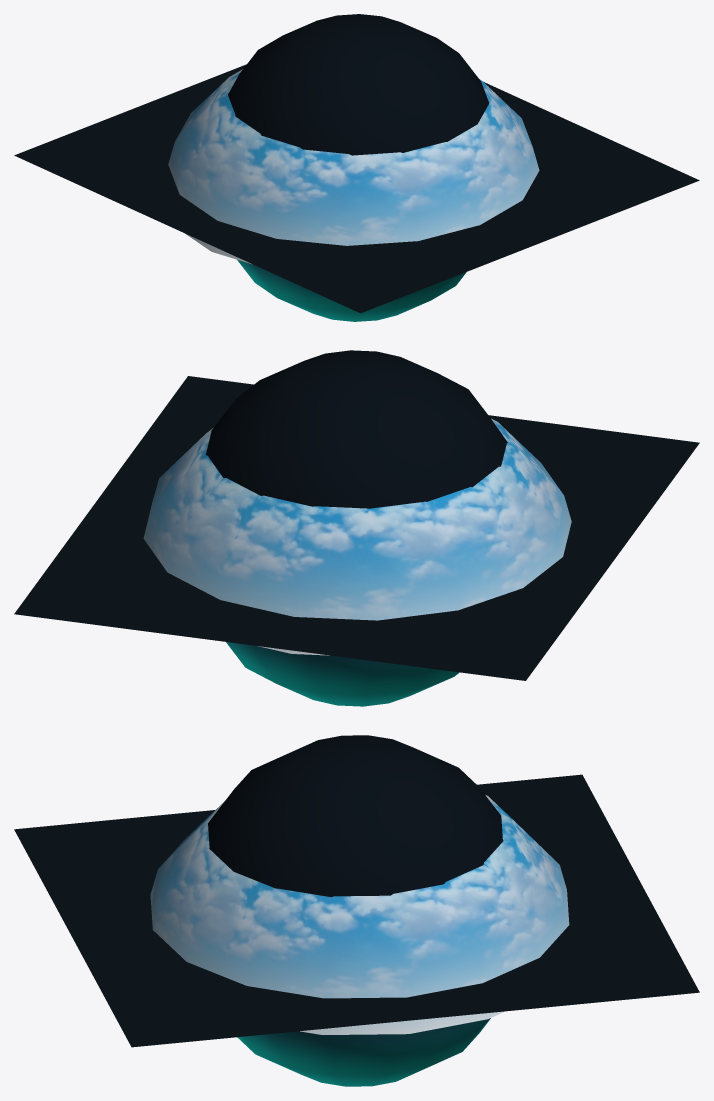
The model's file is BattleArea_0060001.fbx.
3 views of the same model, one above another, from view 1: azimuth 30°, elevation 25°; view 2: azimuth 150°, elevation 25°; view 3: azimuth 270°, elevation 25° (orthographic). The views are drawn at different scales.
Parts seen in each view (by area): view 1: skillbg_02, sky_01_001, skillbg_01; view 2: skillbg_02, sky_01_001, skillbg_01; view 3: skillbg_02, sky_01_001, skillbg_01.
Boxes of the visible parts, box(x1,y1,x2,y2) form: skillbg_02: box(14, 64, 699, 313); sky_01_001: box(168, 69, 539, 264); skillbg_01: box(228, 14, 489, 321); skillbg_02: box(14, 376, 699, 680); sky_01_001: box(143, 418, 571, 655); skillbg_01: box(206, 350, 507, 706); skillbg_02: box(14, 774, 699, 1047); sky_01_001: box(150, 795, 569, 1034); skillbg_01: box(208, 735, 503, 1086).
Size of the model in its own units: 343 by 187 by 364.
